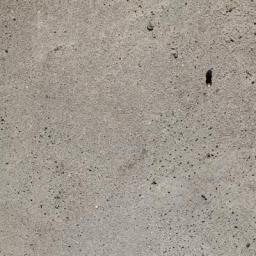FOD: (197, 66, 224, 93)
